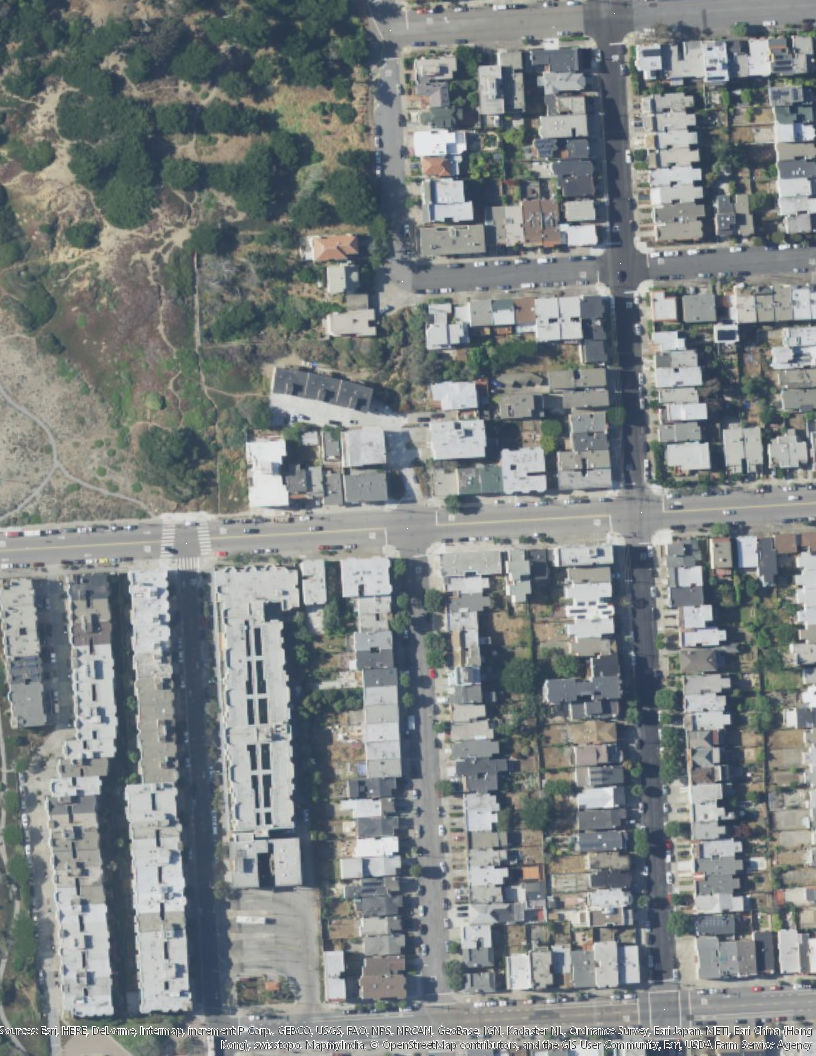zebracross: (160, 518, 176, 563), (172, 555, 208, 572), (199, 518, 210, 557)
